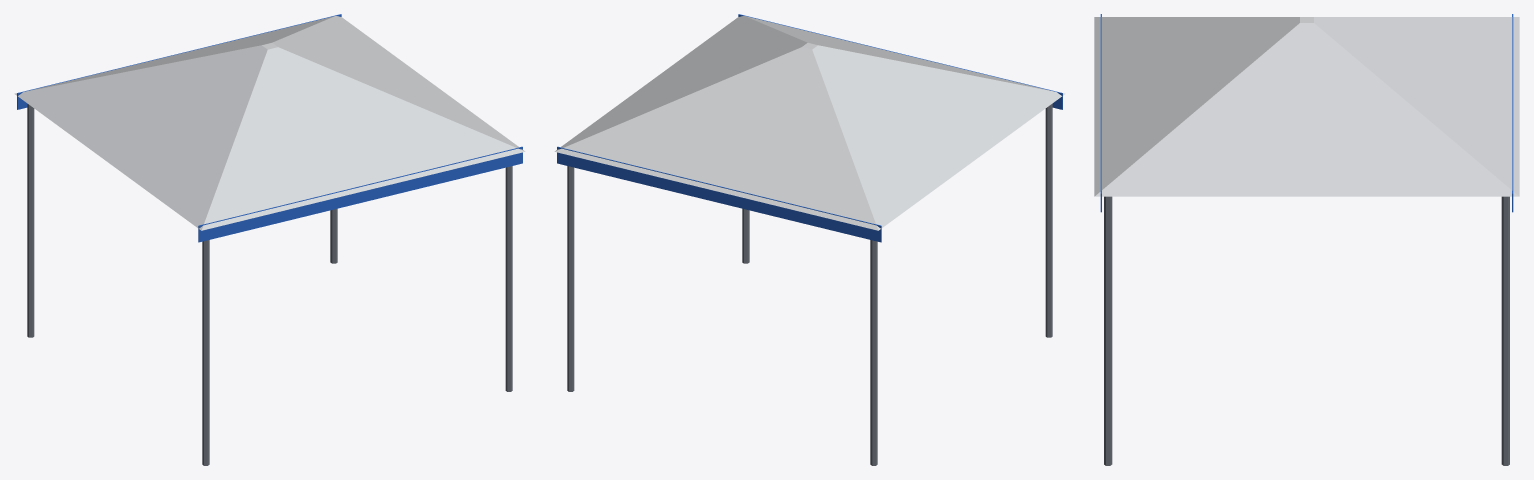
File: event_tent_3x3.glb
The picture shows the model from 3 angles, left to right: view 1: azimuth 30°, elevation 25°; view 2: azimuth 150°, elevation 25°; view 3: azimuth 270°, elevation 25°; orthographic projection. The views are drawn at different scales.
Parts seen in each view (by area): view 1: event_tent_3x3; view 2: event_tent_3x3; view 3: event_tent_3x3.
Boxes of the visible parts, x1,y1,x2,y2 form: event_tent_3x3: [14, 14, 525, 465]; event_tent_3x3: [554, 14, 1065, 465]; event_tent_3x3: [1094, 14, 1519, 465].
Bounding box in the file's own units: 3.1 × 2.9 × 3.1.
